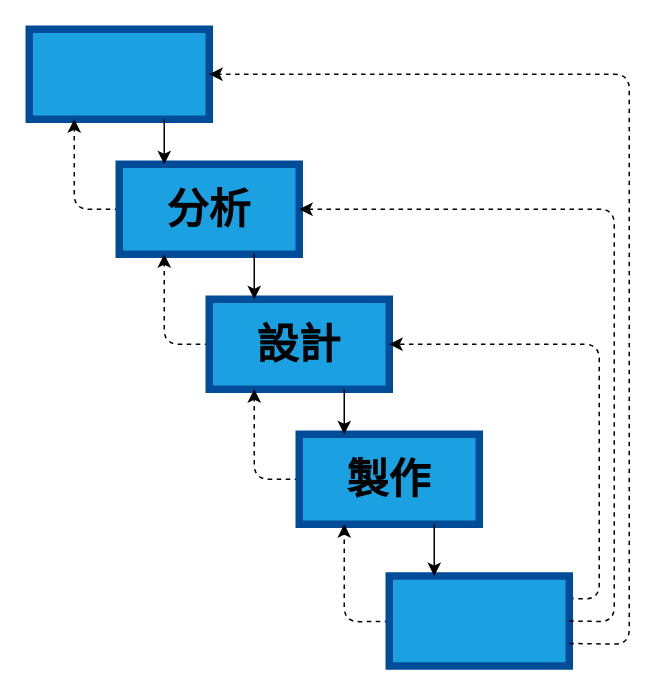
The diagram is 668 pixels wide and 696 high, and some of its shapes have lost their labels. The shapes that lost their labels are listed below. From the top down, each one's centre as x and y in pixels, then its label:
At [118,73]: "需求".
At [478,620]: "維護".
